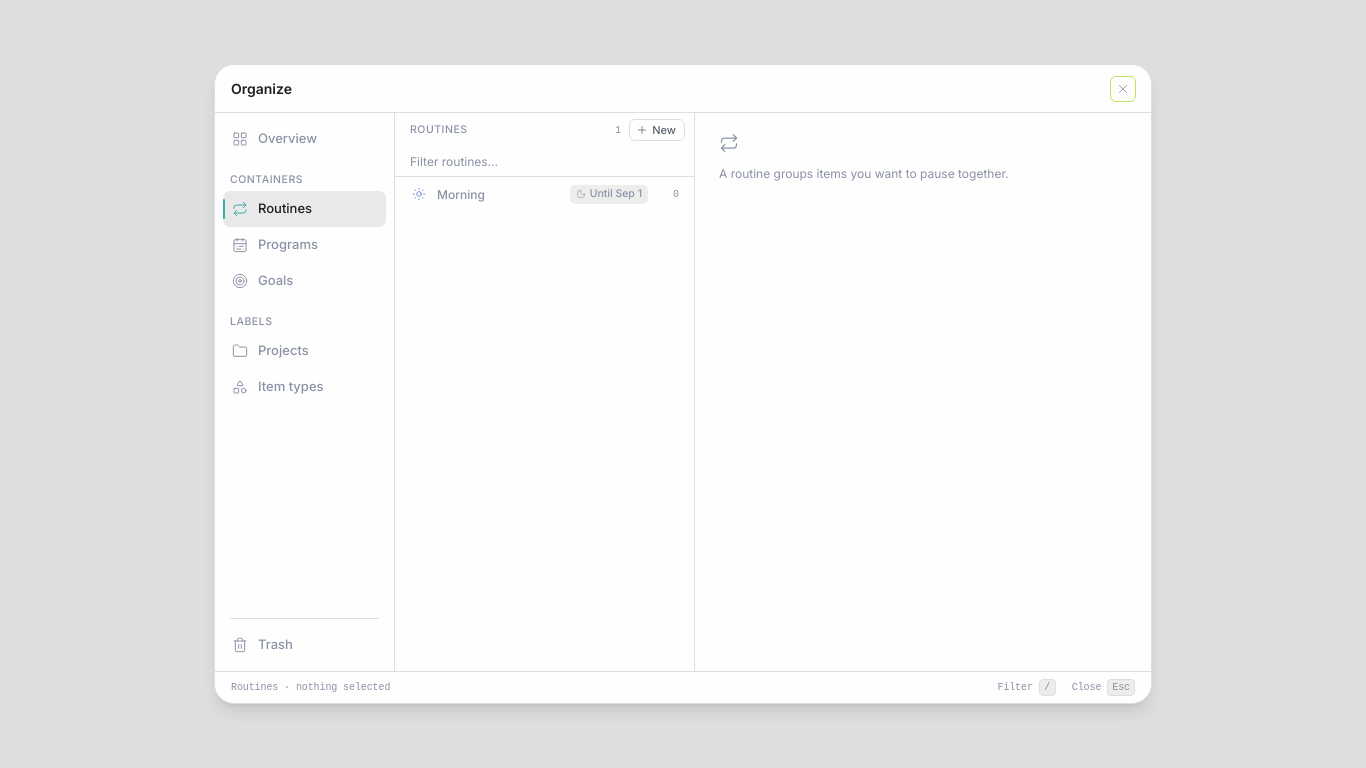
Test: the routines section › shows the resume field and its note once the routine is paused
The width and height of the screenshot is (1366, 768).
Click the button with test id "routine-row" at (461, 194), box [403,177,686,211]
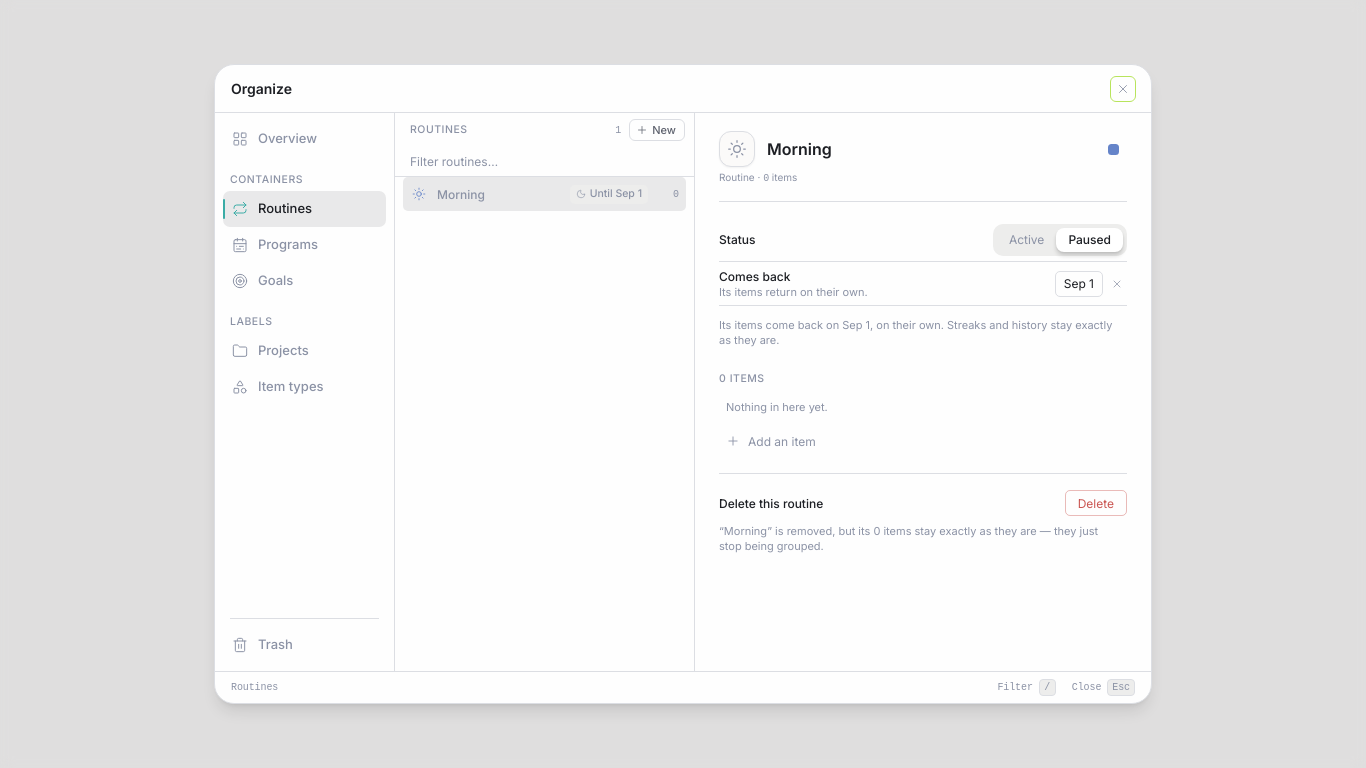
Result: the button with test id "routine-resume" reads "Sep 1" at [1055,270,1103,296]
Result: the text with test id "routine-paused-note" shows "Its items come back on Sep 1, on their own." at [719,318,944,332]
Result: the text with test id "routine-paused-note" shows "Streaks and history stay exactly as they are" at [719,318,1112,347]
